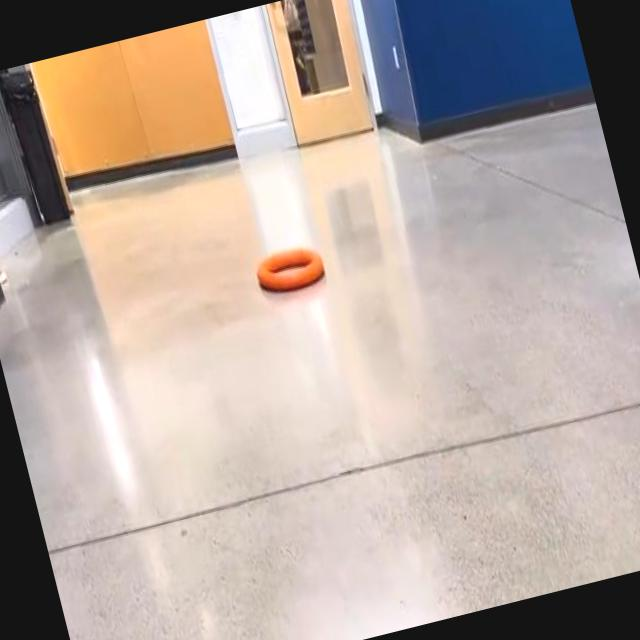note: (256, 247, 323, 288)
